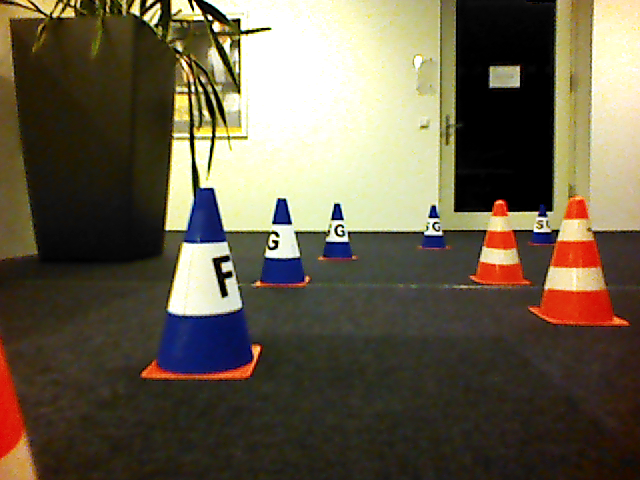bluecone: (140, 186, 262, 382), (253, 196, 313, 289), (318, 202, 358, 262)
orangeconesmall: (468, 198, 532, 288)
